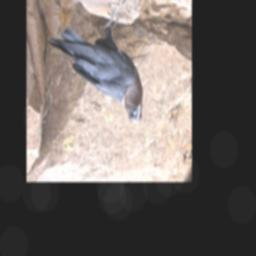Crow: (47, 0, 143, 125)
